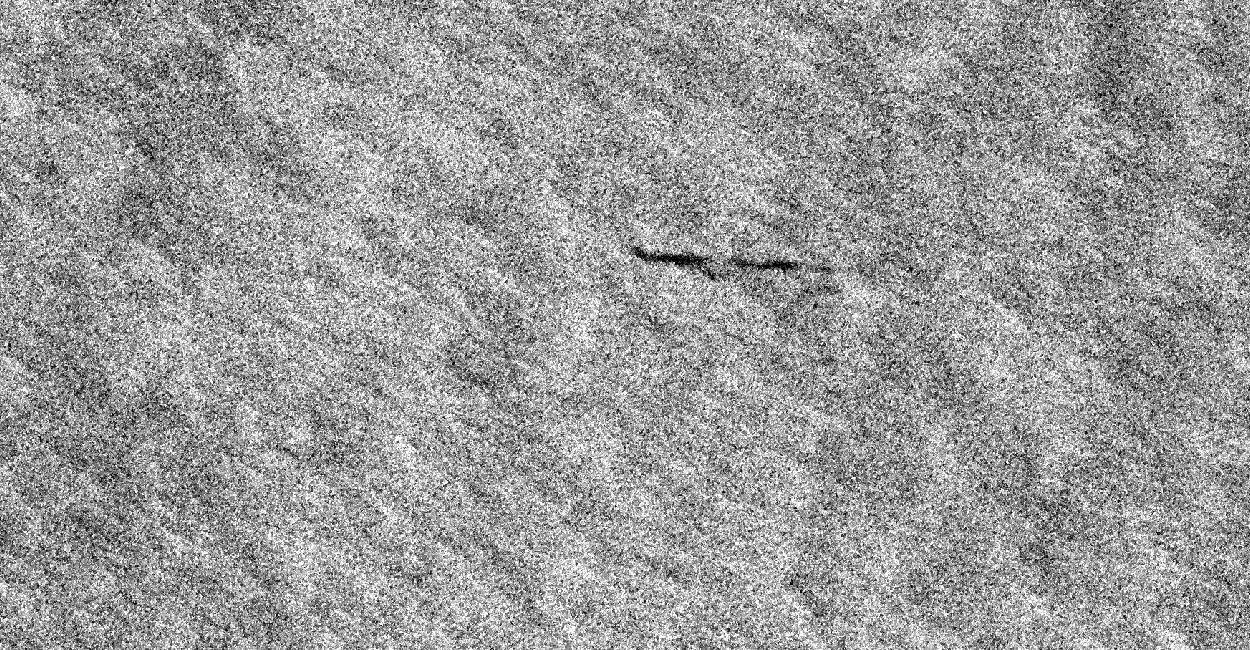Oil Spill: (630, 244, 716, 280), (726, 250, 806, 284)
